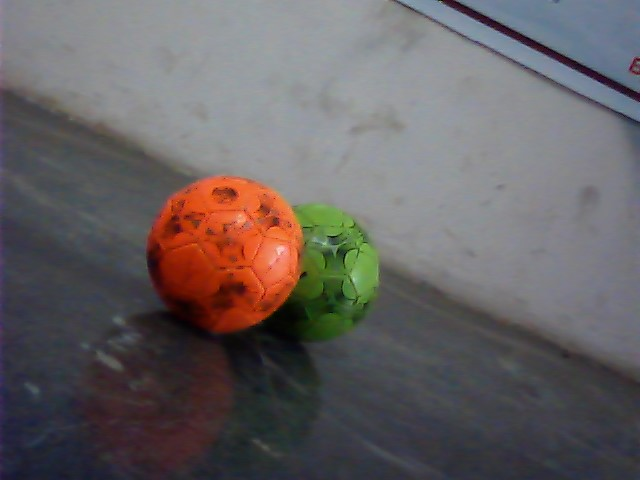Green_ball: (289, 189, 383, 352)
Orange_ball: (146, 171, 308, 341)
